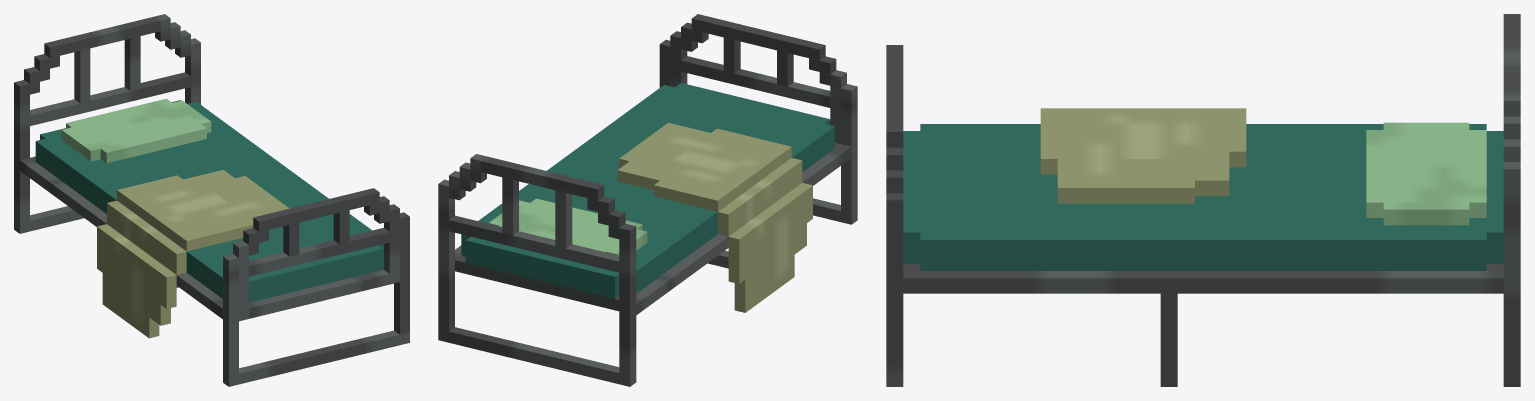
File: Bed_InfirmaryA_00.fbx
3 renders of one model, left to right at view 1: azimuth 30°, elevation 25°; view 2: azimuth 150°, elevation 25°; view 3: azimuth 270°, elevation 25°, orthographic. The views are drawn at different scales.
Visible parts, largest first — view 1: Bed_InfirmaryA_00; view 2: Bed_InfirmaryA_00; view 3: Bed_InfirmaryA_00.
Boxes of the visible parts, bbox=[...] form: Bed_InfirmaryA_00: bbox=[14, 14, 409, 386]; Bed_InfirmaryA_00: bbox=[438, 14, 857, 386]; Bed_InfirmaryA_00: bbox=[886, 14, 1520, 386].
Size of the model in its own units: 95 by 85 by 185.
